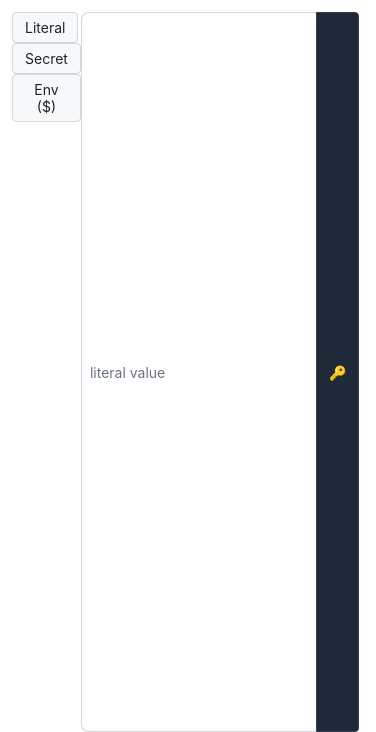
Test: SecretPicker — case 3: typing 'secret:' auto-opens + filter narrows › typing 'secret:' into the input auto-opens the dropdown
The width and height of the screenshot is (376, 732).
Click the dropdown: x=198, y=372 [81,12,316,731]
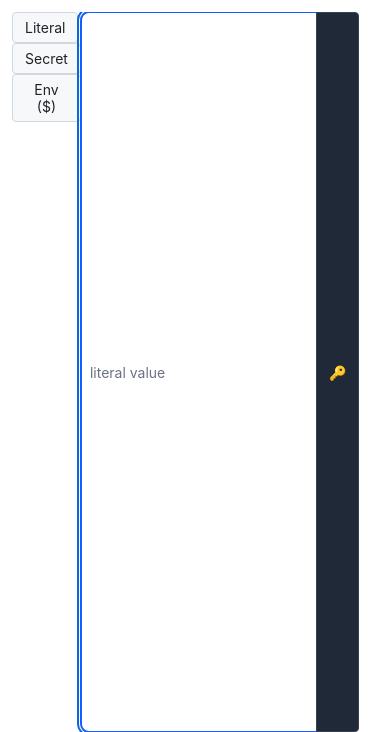
Type keys "secret:"
(page scrolled)
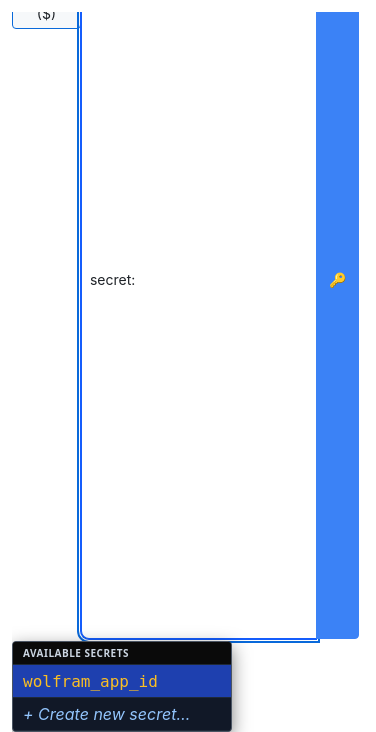
Expected: the list is shown, [12,641,232,731]
